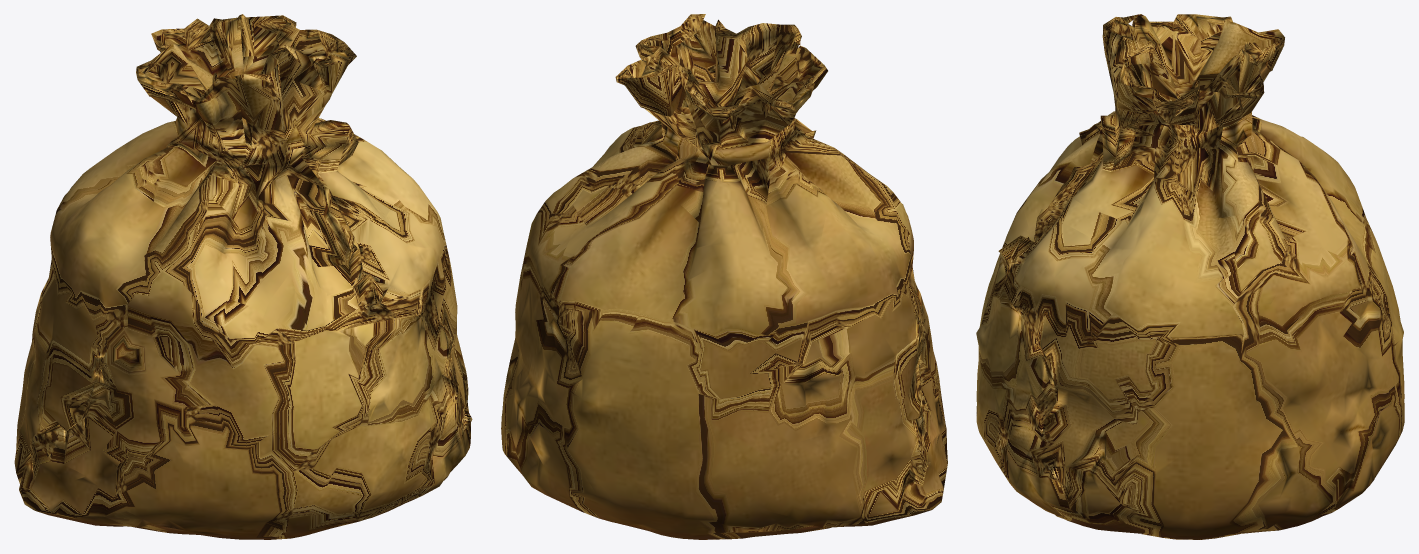
File: sack.glb
3 views of the same model, side by side, from view 1: azimuth 30°, elevation 25°; view 2: azimuth 150°, elevation 25°; view 3: azimuth 270°, elevation 25° (orthographic). The views are drawn at different scales.
Visible parts, largest first — view 1: tripo_node_e7fa409d-1a44-4927-93e4-6a1475e4b9bc; view 2: tripo_node_e7fa409d-1a44-4927-93e4-6a1475e4b9bc; view 3: tripo_node_e7fa409d-1a44-4927-93e4-6a1475e4b9bc.
Part boxes in pixels (x1=…): tripo_node_e7fa409d-1a44-4927-93e4-6a1475e4b9bc: x1=14, y1=14, x2=472, y2=539; tripo_node_e7fa409d-1a44-4927-93e4-6a1475e4b9bc: x1=501, y1=14, x2=947, y2=539; tripo_node_e7fa409d-1a44-4927-93e4-6a1475e4b9bc: x1=976, y1=14, x2=1404, y2=539.
Bounding box in the file's own units: 0.9563 × 0.9785 × 0.8783.
Materials: 1 (1 with a texture image).
